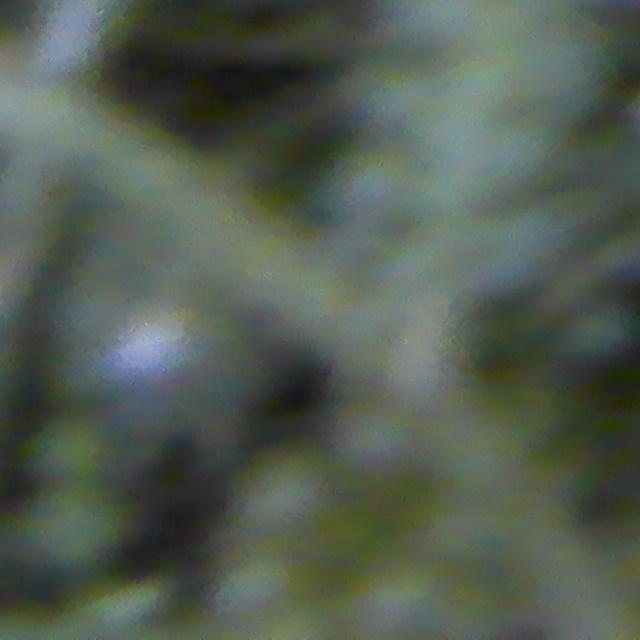SeaGrape: (24, 480, 127, 572), (239, 446, 333, 542), (337, 402, 417, 483), (30, 413, 109, 485), (218, 547, 295, 618)
